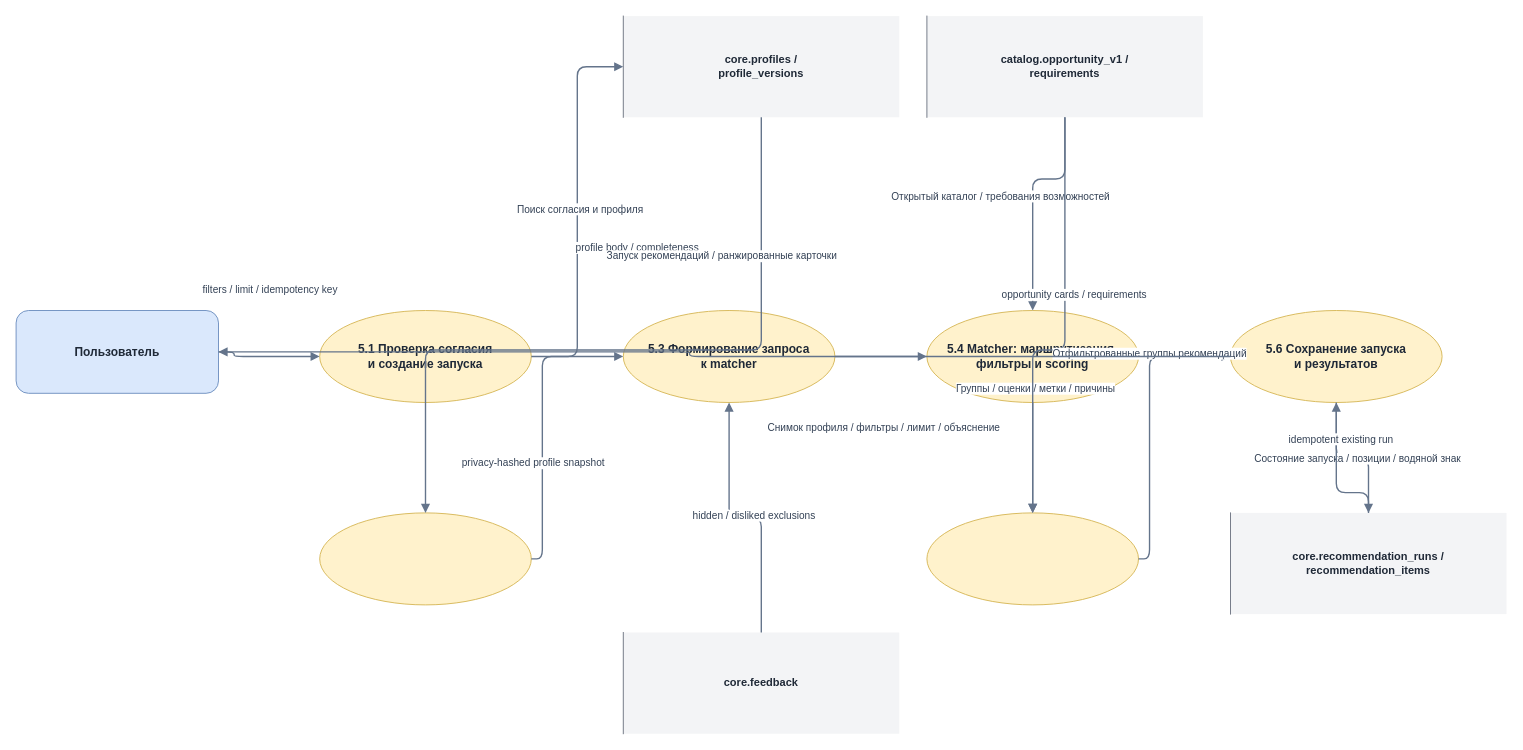
Some shapes in this 1523 by 750 pixel diagram are drawn without their labels. The centre of each missing label's shape, as x and y in pixels:
"5.2 Подготовка снимка профиля" goes at (425,558).
"5.5 Добавление карточек каталога" goes at (1032,558).
